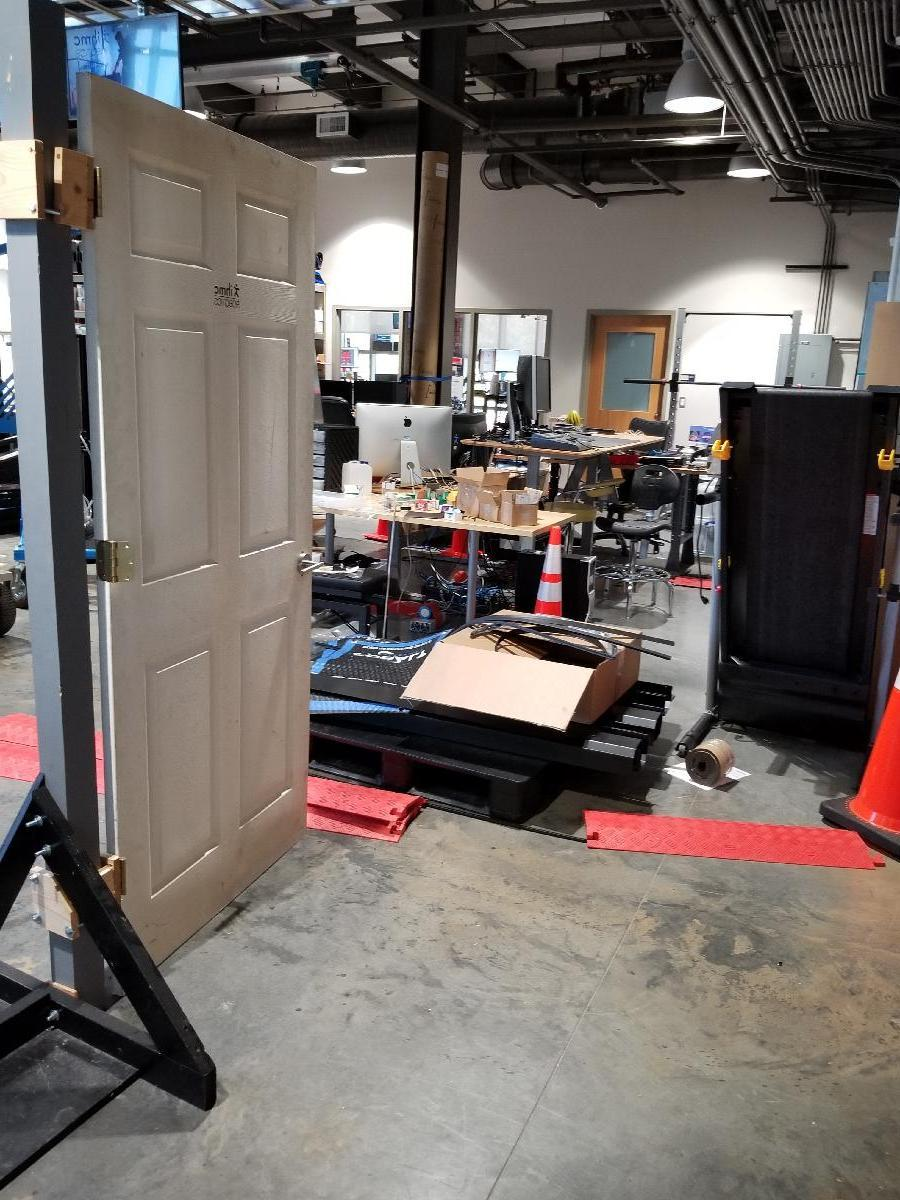door: (89, 163, 314, 905), (581, 303, 669, 456)
handle: (287, 548, 324, 586)
